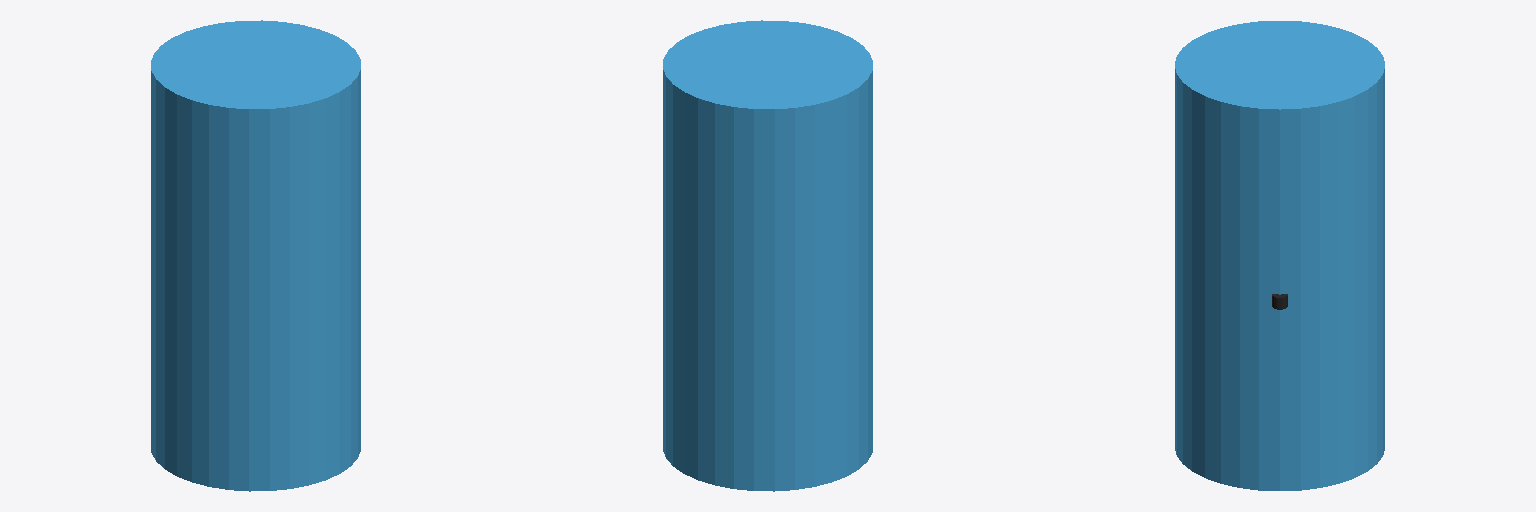
URDF robot description (agv_robot):
<!--html-->

<robot name="agv_robot">
  <material name="orange">
    <color rgba="1.0 0.5 0.2 1" />
  </material>
  <material name="gray">
    <color rgba="0.2 0.2 0.2 1" />
  </material>

  <link name="/laser">
    <visual>
      <origin xyz="0 0 0" />
      <geometry>
        <cylinder length="0.05" radius="0.03" />
      </geometry>
      <material name="gray" />
    </visual>
  </link>

  <link name="/base_link">
    <visual>
      <origin xyz="0 0 0" />
      <geometry>
        <cylinder length="1.6" radius="0.4" />
      </geometry>
      <material name="red" />
    </visual>
  </link>

  <joint name="base_link_to_laser_joint" type="fixed">
    <parent link="/base_link" />
    <child link="/laser" />
    <origin xyz="0.4 0.0 0.0" />
  </joint>

</robot>

--- Facts derived from the render (not from the file) ---
Views: 3 orthographic renders of the robot side by side, from view 1: azimuth 30°, elevation 25°; view 2: azimuth 150°, elevation 25°; view 3: azimuth 270°, elevation 25°.
Model agv_robot with 2 links and 1 joints (1 fixed), rooted at /base_link, posed every joint at zero.
Visible links, largest first — view 1: /base_link; view 2: /base_link; view 3: /base_link.
Link boxes in pixels (box(x1,y1,x2,y2)): /base_link: box(151, 20, 360, 491); /base_link: box(663, 20, 872, 491); /base_link: box(1175, 21, 1384, 490).
Size in the robot's own frame: 0.83 by 0.8 by 1.6 metres.
Geometry: primitives only (box / cylinder / sphere), no mesh files.